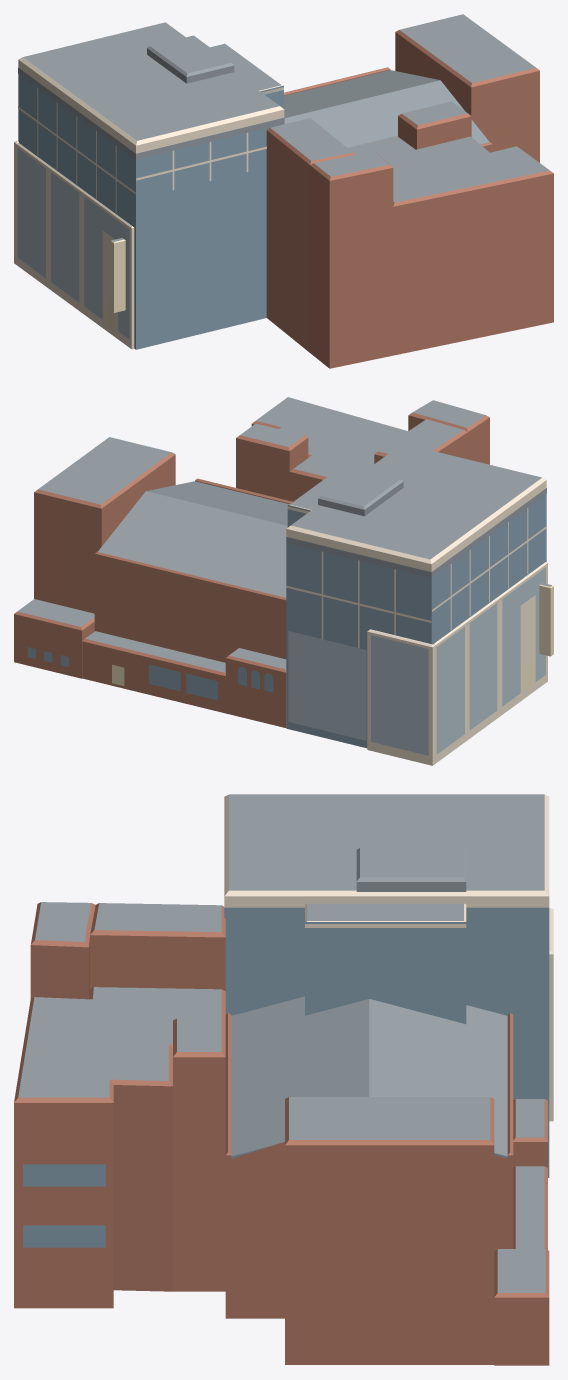
File: carolina-theatre.glb
The picture shows the model from 3 angles, top to bottom: view 1: azimuth 30°, elevation 25°; view 2: azimuth 150°, elevation 25°; view 3: azimuth 270°, elevation 25°; orthographic projection. The views are drawn at different scales.
Visible parts, largest first — view 1: Carolina Theatre; view 2: Carolina Theatre; view 3: Carolina Theatre.
Part boxes in pixels (x1=…): Carolina Theatre: x1=14, y1=14, x2=553, y2=368; Carolina Theatre: x1=14, y1=397, x2=553, y2=765; Carolina Theatre: x1=14, y1=794, x2=553, y2=1365.
Size of the model in its own units: 62.8 by 29.36 by 48.23.
